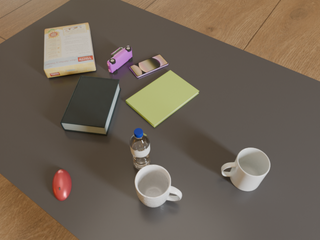book: (126, 70, 199, 127), (61, 76, 121, 136)
bottle: (130, 128, 151, 170)
box: (44, 23, 96, 78)
cup: (221, 148, 270, 191), (135, 165, 182, 207)
mouse: (52, 169, 71, 201)
phone: (130, 55, 168, 77)
toy_car: (107, 46, 132, 73)
